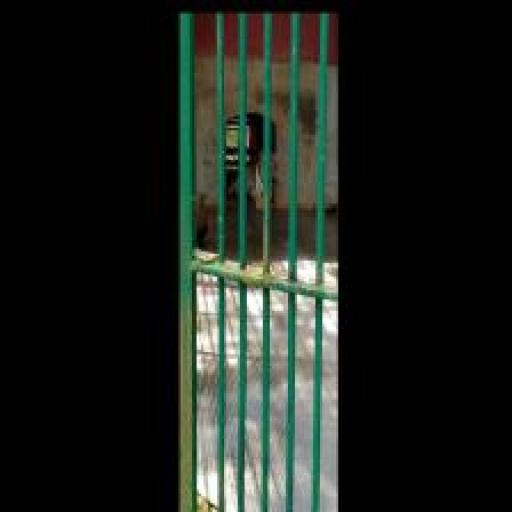Tiger: (224, 140, 283, 212)
